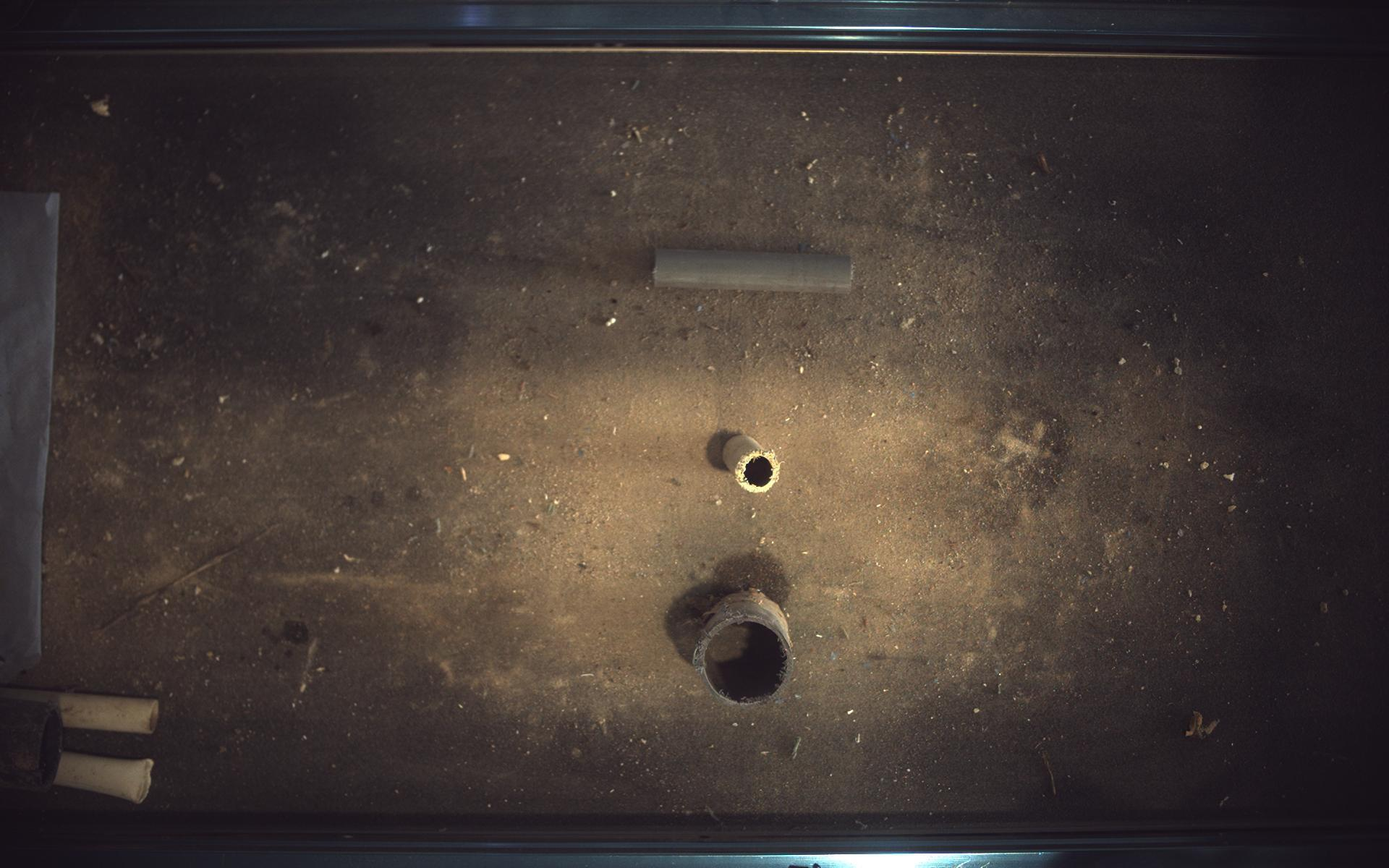pipes: (693, 590, 794, 706), (654, 248, 854, 293), (723, 435, 781, 494)
